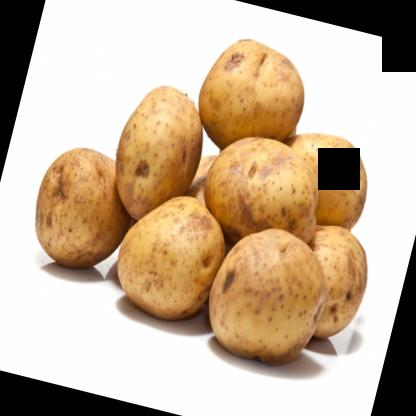potato: (196, 219, 339, 375), (103, 185, 240, 334), (21, 139, 146, 281), (101, 77, 213, 226), (195, 132, 328, 256), (190, 32, 314, 161), (274, 119, 382, 235), (290, 218, 380, 348)
